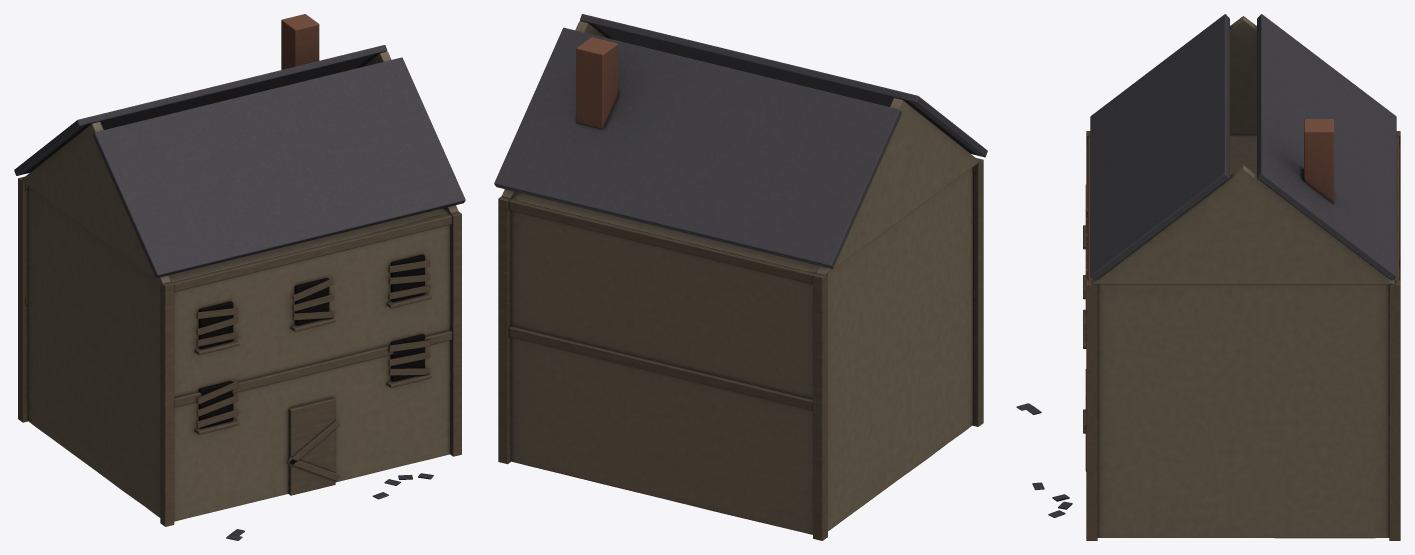
Rendered from vespera_casa_tapada_g.glb.
The picture shows the model from 3 angles, left to right: view 1: azimuth 30°, elevation 25°; view 2: azimuth 150°, elevation 25°; view 3: azimuth 270°, elevation 25°; orthographic projection. The views are drawn at different scales.
Parts seen in each view (by area): view 1: vespera_casa_tapada_g_tronco; view 2: vespera_casa_tapada_g_tronco; view 3: vespera_casa_tapada_g_tronco.
Boxes of the visible parts, <box> form: vespera_casa_tapada_g_tronco: <box>14,14,465,540</box>; vespera_casa_tapada_g_tronco: <box>494,14,987,540</box>; vespera_casa_tapada_g_tronco: <box>1016,14,1400,540</box>.
Bounding box in the file's own units: 7.5 × 8.5 × 7.61.
1 material, 1 textured.
